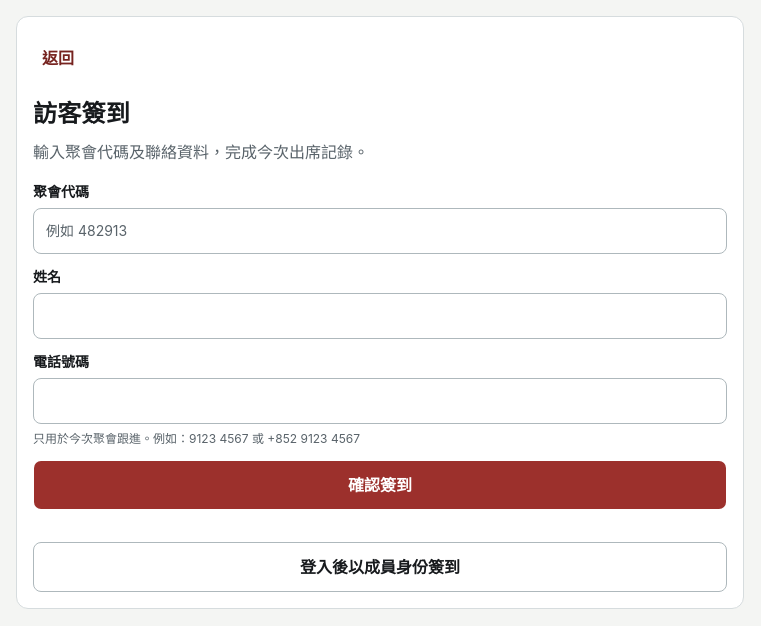
Test: AttendancePanel › AttendancePanel guest flow › guest closed-event resolve shows an explicit window outcome
Type "ATTCLOSED" into the field labelled "聚會代碼".
click(380, 231); type("ATTCLOSED")  # box [33,208,727,254]
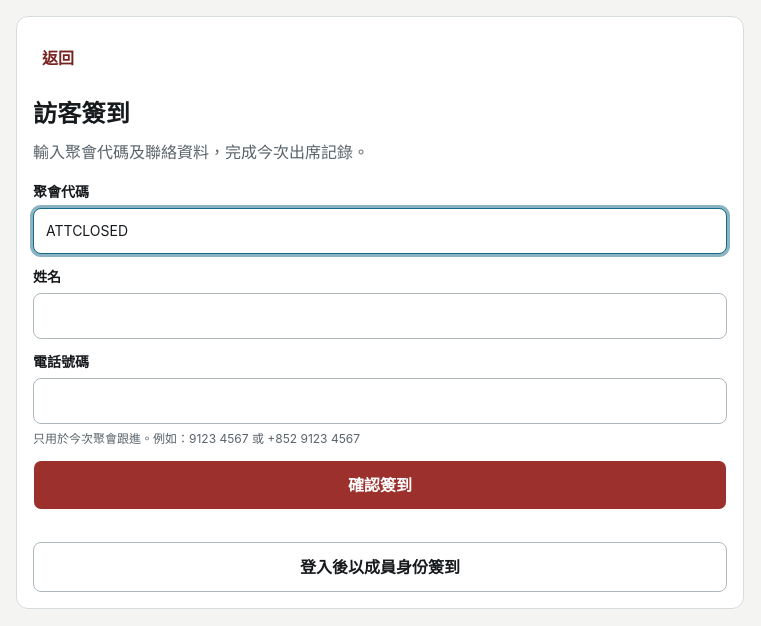
Type "E2E訪客" into the field labelled "姓名".
click(380, 316); type("E2E訪客")  # box [33,293,727,339]
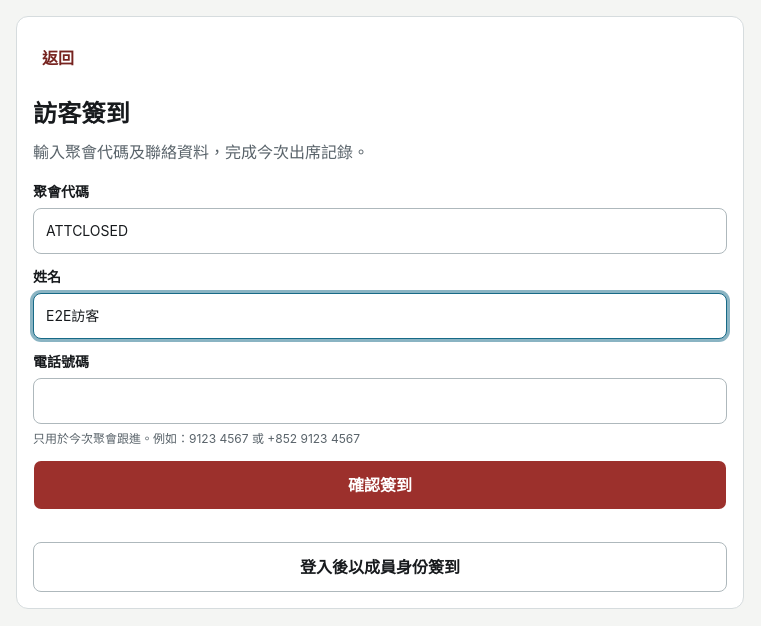
Type "91234567" into the field labelled "電話號碼 只用於今次聚會跟進。例如：9123 4567 或 +852 9123 4567".
click(380, 401); type("91234567")  # box [33,378,727,424]
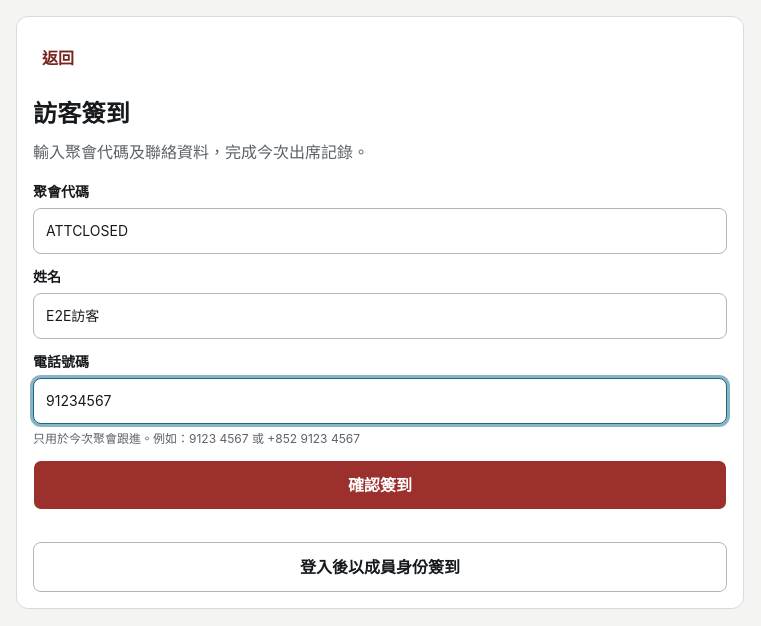
Click the button "確認簽到".
click(380, 485)  # box [33,460,727,510]
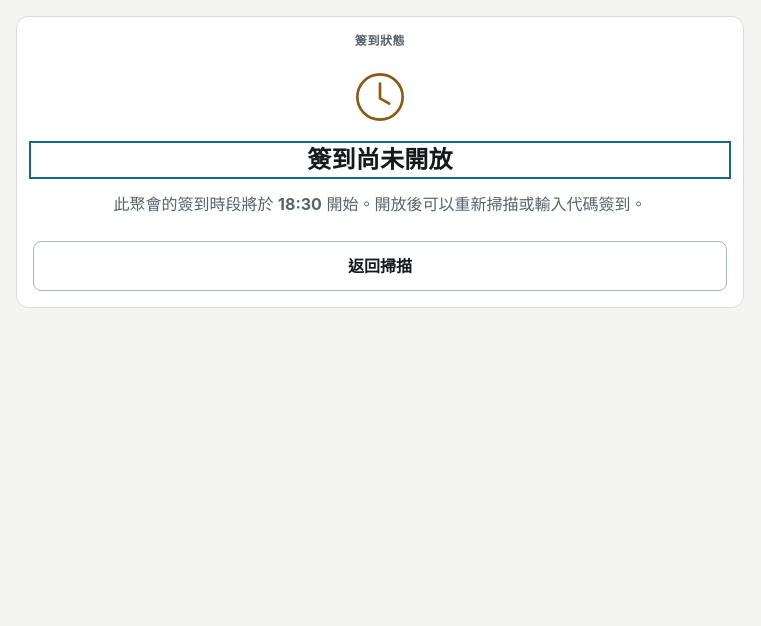
Check: the heading "簽到尚未開放" is shown, box [307,145,453,174]
Check: the text "簽到狀態" is shown, box [355,33,405,48]
Check: the text labelled "聚會代碼" is gone
